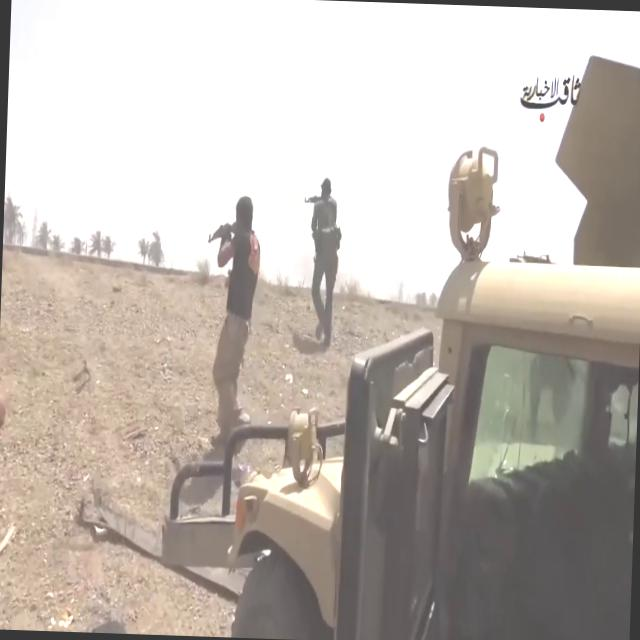long weapon: (199, 210, 240, 260), (300, 188, 326, 218)
